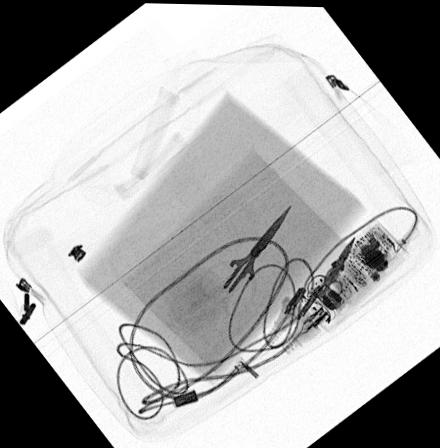Scissors: (195, 202, 292, 318), (304, 230, 356, 300)
